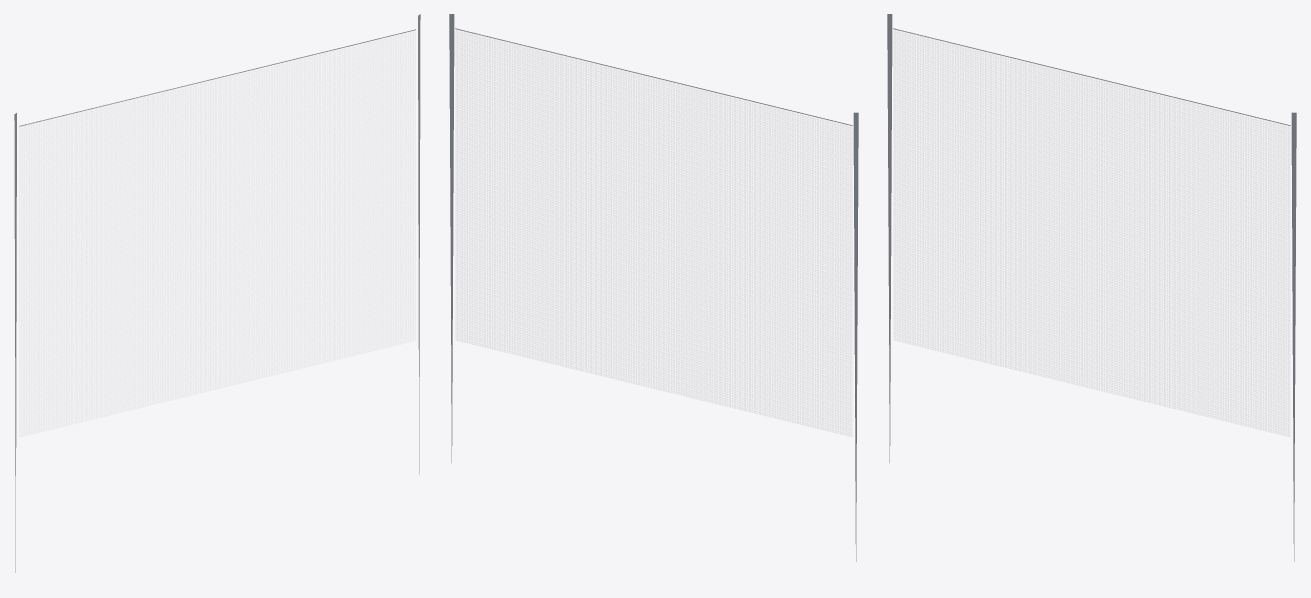
File: fieldgoal_net_lod2.glb
3 views of the same model, side by side, from view 1: azimuth 30°, elevation 25°; view 2: azimuth 150°, elevation 25°; view 3: azimuth 330°, elevation 25° (orthographic).
Parts seen in each view (by area): view 1: fieldgoal_net__prop_net, fieldgoal_net__prop_steel; view 2: fieldgoal_net__prop_net, fieldgoal_net__prop_steel; view 3: fieldgoal_net__prop_net, fieldgoal_net__prop_steel.
Boxes of the visible parts, left/top/right/bottom form: fieldgoal_net__prop_net: left=19, top=32, right=415, bottom=436; fieldgoal_net__prop_steel: left=14, top=14, right=420, bottom=572; fieldgoal_net__prop_net: left=457, top=31, right=851, bottom=434; fieldgoal_net__prop_steel: left=449, top=14, right=858, bottom=561; fieldgoal_net__prop_net: left=895, top=31, right=1289, bottom=436; fieldgoal_net__prop_steel: left=887, top=14, right=1296, bottom=561.
Bounding box in the file's own units: 12.32 × 13.6 × 0.0698.
Materials: 2 (1 with a texture image).
